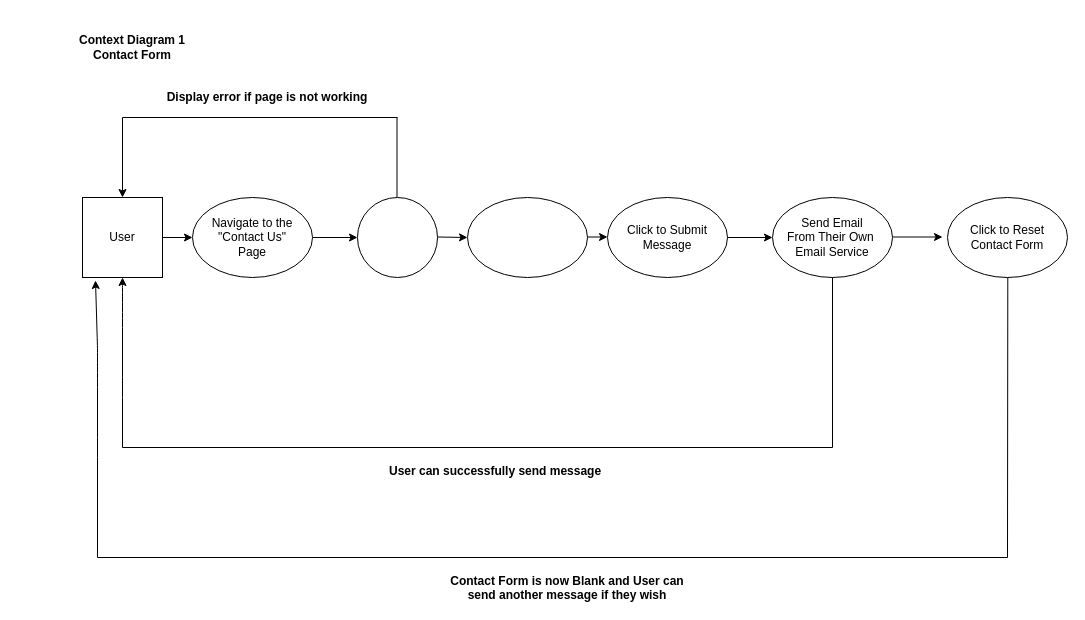
This 1085x620 diagram has some shape labels left out. The shapes that lost their labels are listed below. From the top down, each one's box as (x1, y1, x2, y2) in pixels, then its label:
(356, 196, 438, 278): Contact Us
(466, 196, 588, 278): Fill Out the Contact Form
